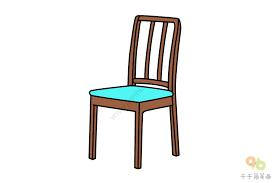chair: (69, 10, 206, 177)
